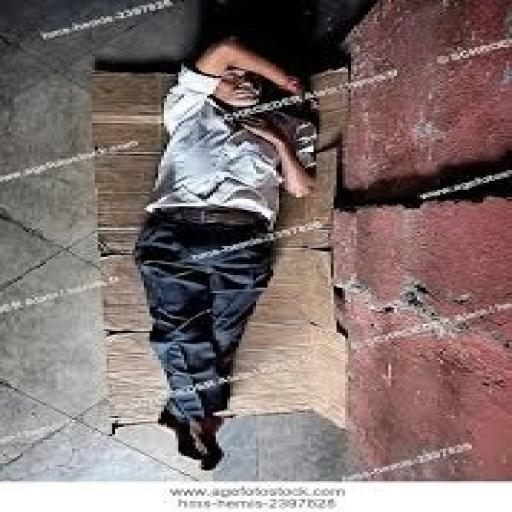sleeping: (130, 32, 322, 468)
